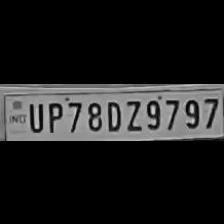7: (200, 94, 220, 128), (64, 98, 82, 132), (162, 96, 180, 130)
8: (84, 97, 104, 130)
9: (142, 96, 160, 130), (182, 96, 200, 128)
D: (104, 96, 122, 132)
P: (44, 98, 64, 132)
U: (24, 98, 43, 132)
Z: (122, 96, 142, 132)
